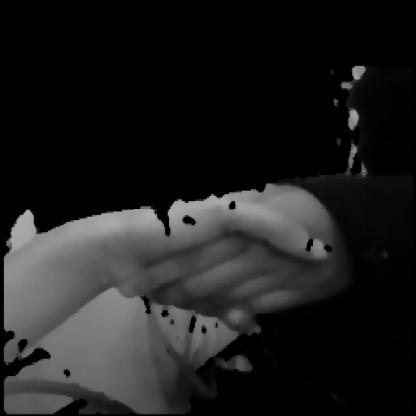handshake: (44, 159, 378, 385)
